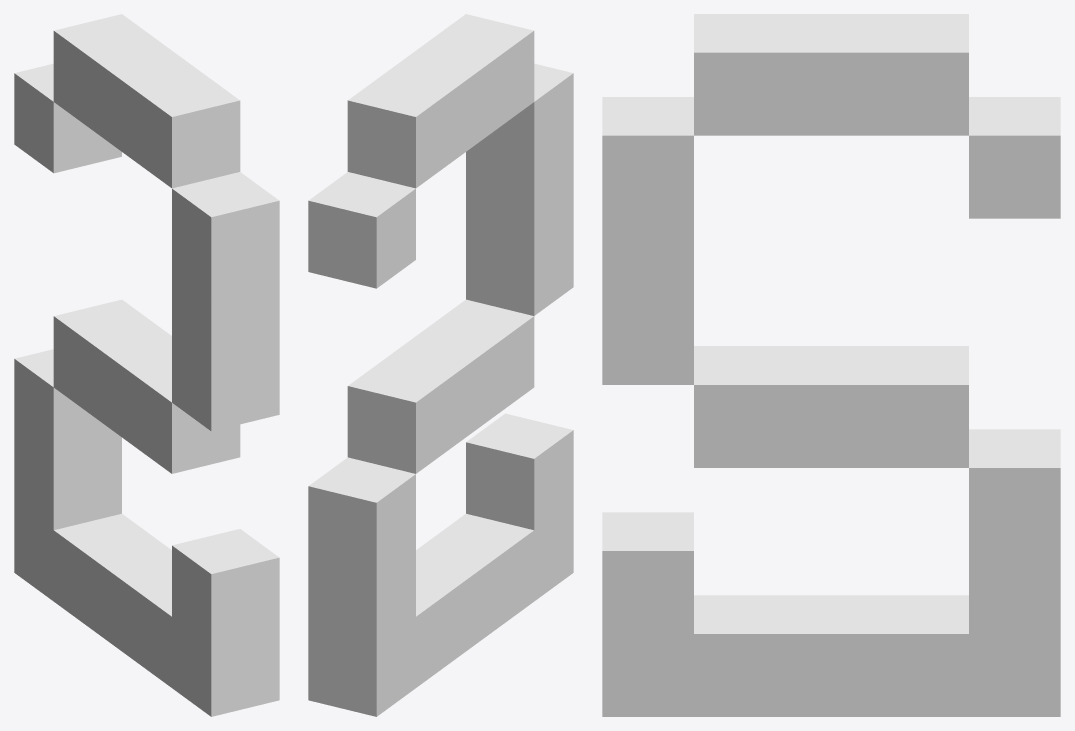
Rendered from dig_2.obj.
3 renders of one model, left to right at view 1: azimuth 30°, elevation 25°; view 2: azimuth 150°, elevation 25°; view 3: azimuth 270°, elevation 25°, orthographic. The views are drawn at different scales.
Size of the model in its own units: 0.1 by 0.8 by 0.5.
1 material, 1 textured.
